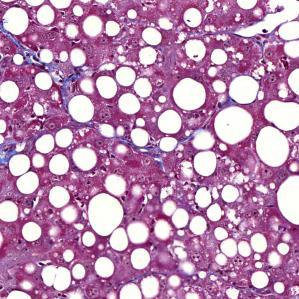fibrosis: (32, 62, 84, 91)
